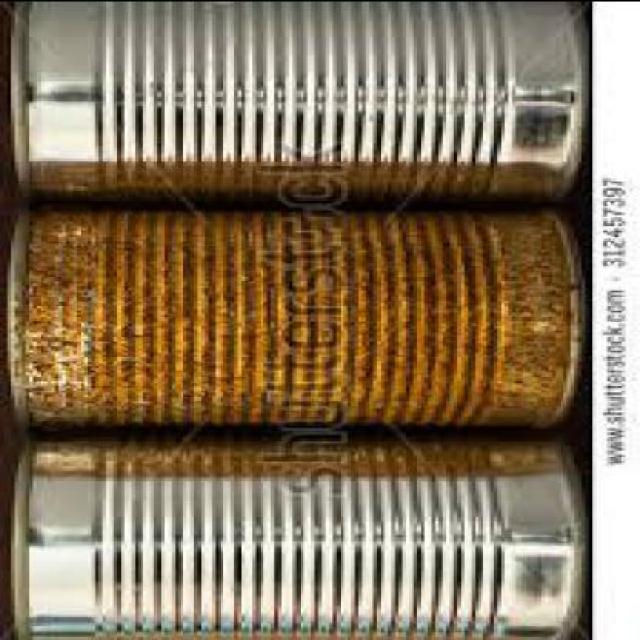METAL: (4, 209, 578, 433), (4, 2, 588, 202), (8, 437, 584, 638)
